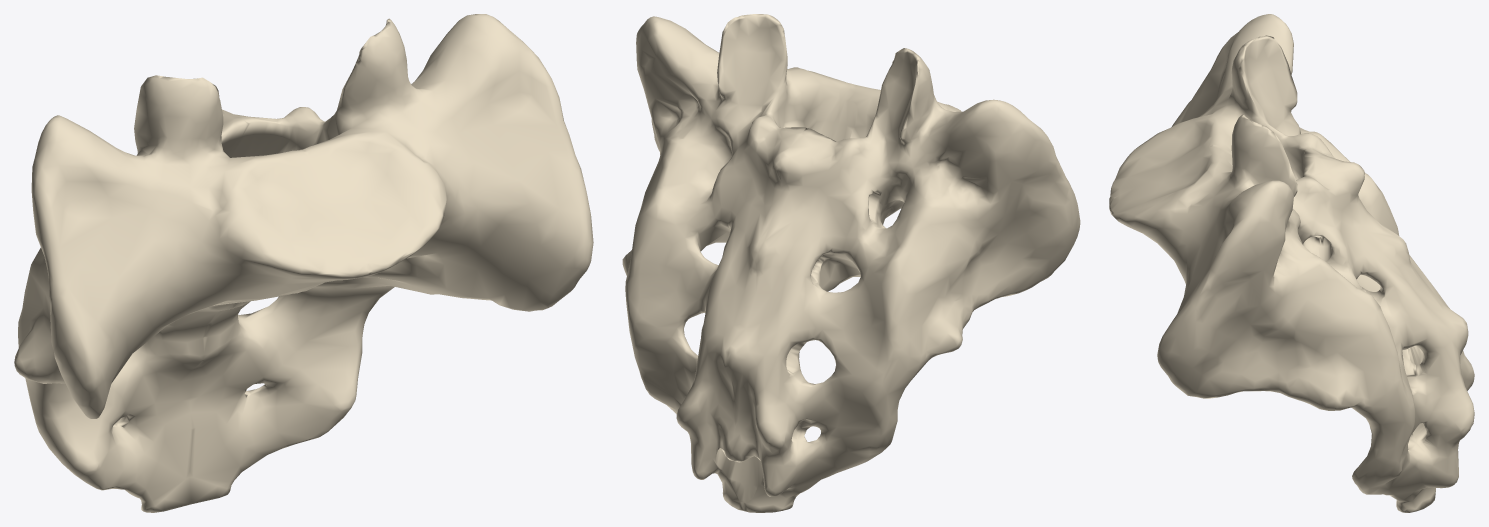
Rendered from sacrum.glb.
The picture shows the model from 3 angles, left to right: view 1: azimuth 30°, elevation 25°; view 2: azimuth 150°, elevation 25°; view 3: azimuth 270°, elevation 25°; orthographic projection. The views are drawn at different scales.
Visible parts, largest first — view 1: Sacrum; view 2: Sacrum; view 3: Sacrum.
Part boxes in pixels (x1=…): Sacrum: x1=14, y1=14, x2=593, y2=512; Sacrum: x1=622, y1=14, x2=1080, y2=512; Sacrum: x1=1109, y1=14, x2=1474, y2=512.
Bounding box in the file's own units: 0.1229 × 0.1151 × 0.0914.
